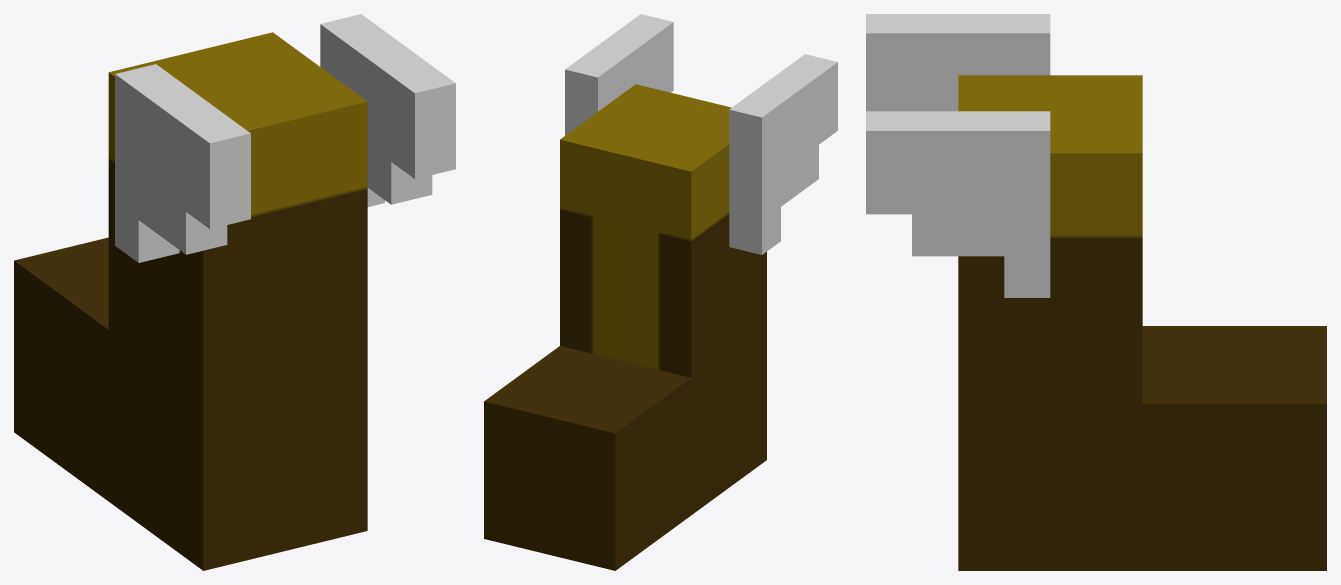
The model's file is walk_ico.fbx.
3 renders of one model, left to right at view 1: azimuth 30°, elevation 25°; view 2: azimuth 150°, elevation 25°; view 3: azimuth 270°, elevation 25°, orthographic. The views are drawn at different scales.
Parts seen in each view (by area): view 1: Matrix; view 2: Matrix; view 3: Matrix.
Part boxes in pixels (x1=…): Matrix: x1=14, y1=14, x2=455, y2=570; Matrix: x1=484, y1=14, x2=837, y2=570; Matrix: x1=866, y1=14, x2=1326, y2=570.
Bounding box in the file's own units: 6 × 11 × 10.
